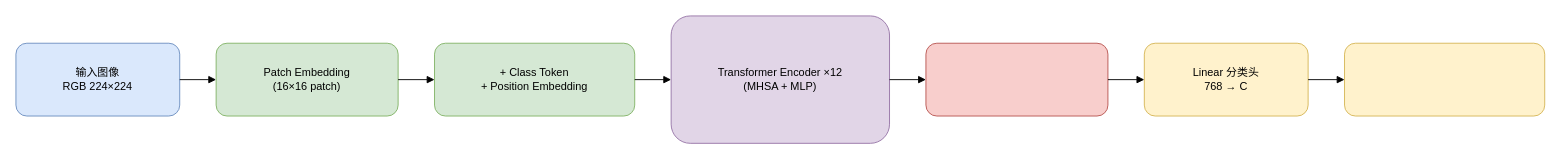
Some shapes in this 1561 by 159 pixel diagram are drawn without their labels. The shapes that lost their labels are listed below. From the top down, each one's box as (x1, y1, x2, y2) in pixels, then its label:
(925, 42, 1108, 116): 输出 CLS token 768-d feature
(1344, 42, 1545, 116): 输出 logits / softmax 预测品牌 + 置信度
